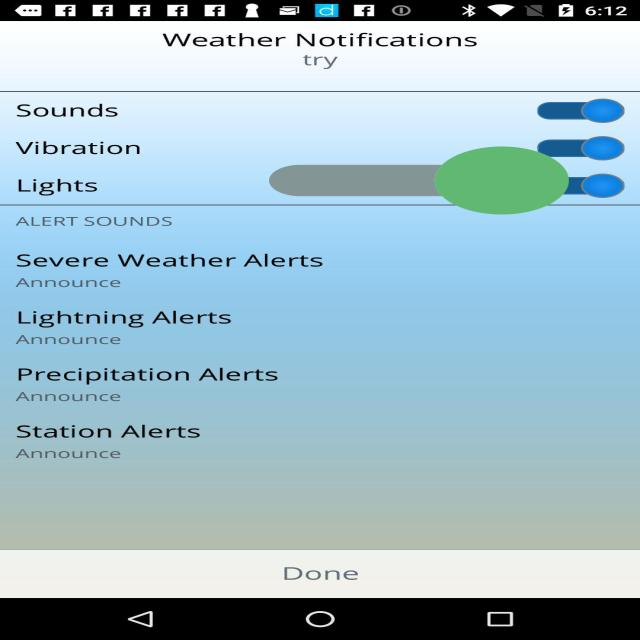social proof: (269, 105, 569, 256)
